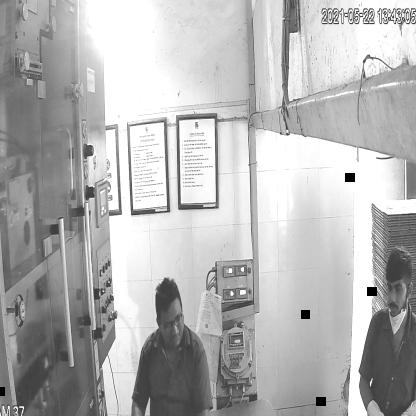goggles: (155, 311, 188, 333)
no_goggles: (383, 277, 407, 300)
